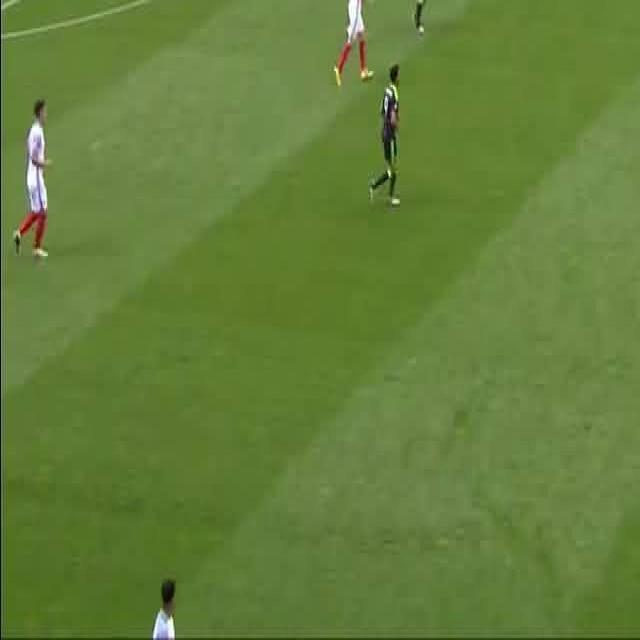player-white: (13, 100, 51, 260), (367, 65, 401, 209), (333, 0, 374, 84), (412, 0, 432, 36)
